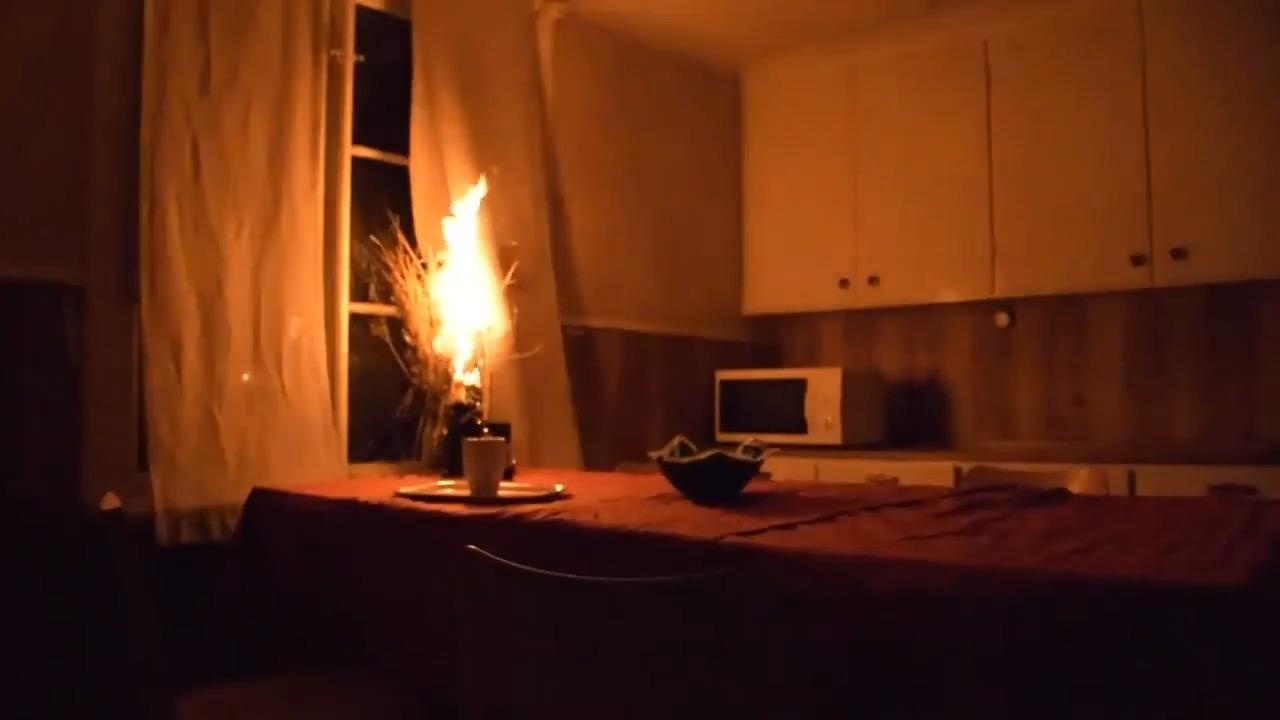fire: (380, 151, 572, 448)
